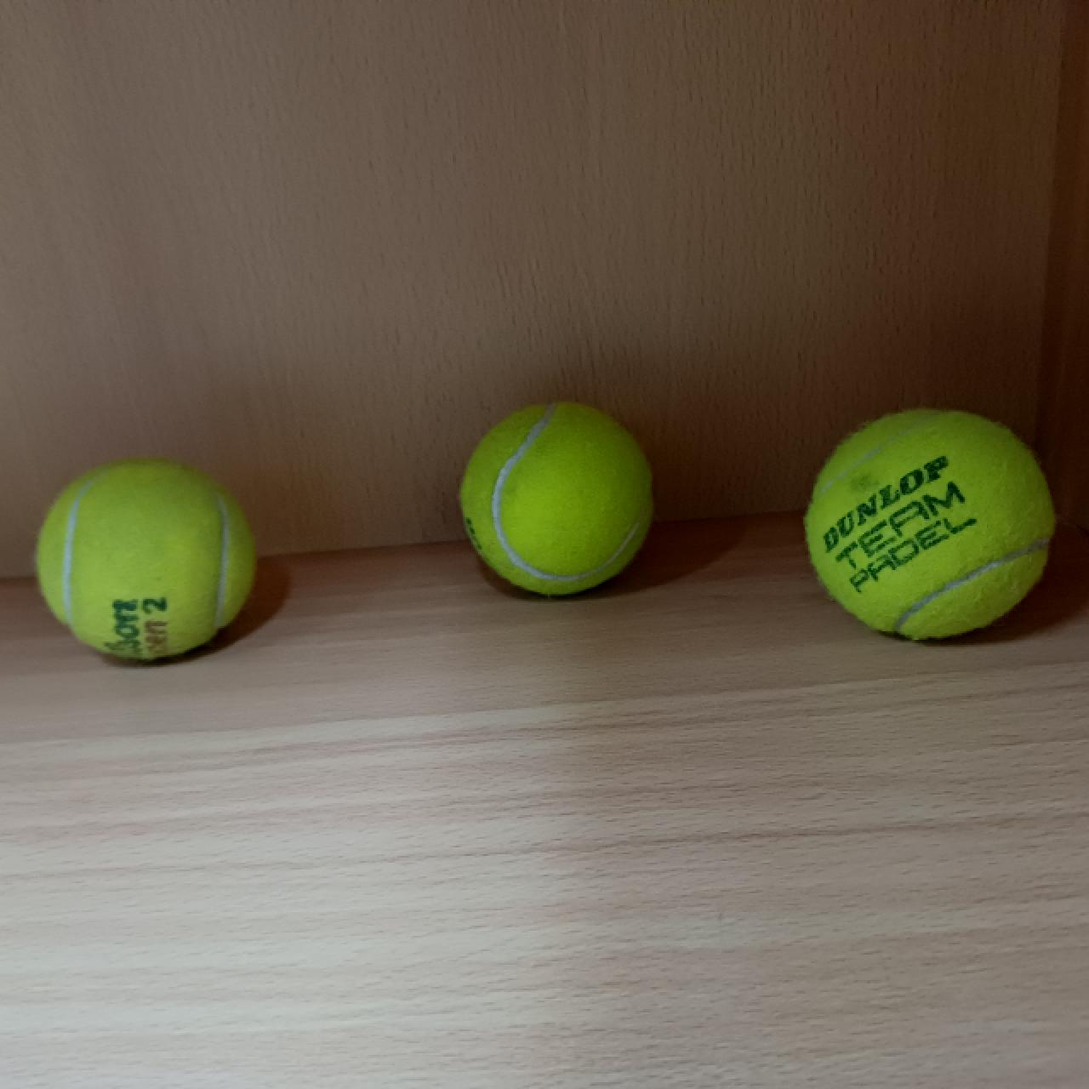tennis-ball: (804, 404, 1055, 642), (34, 461, 260, 665), (455, 401, 659, 597)
